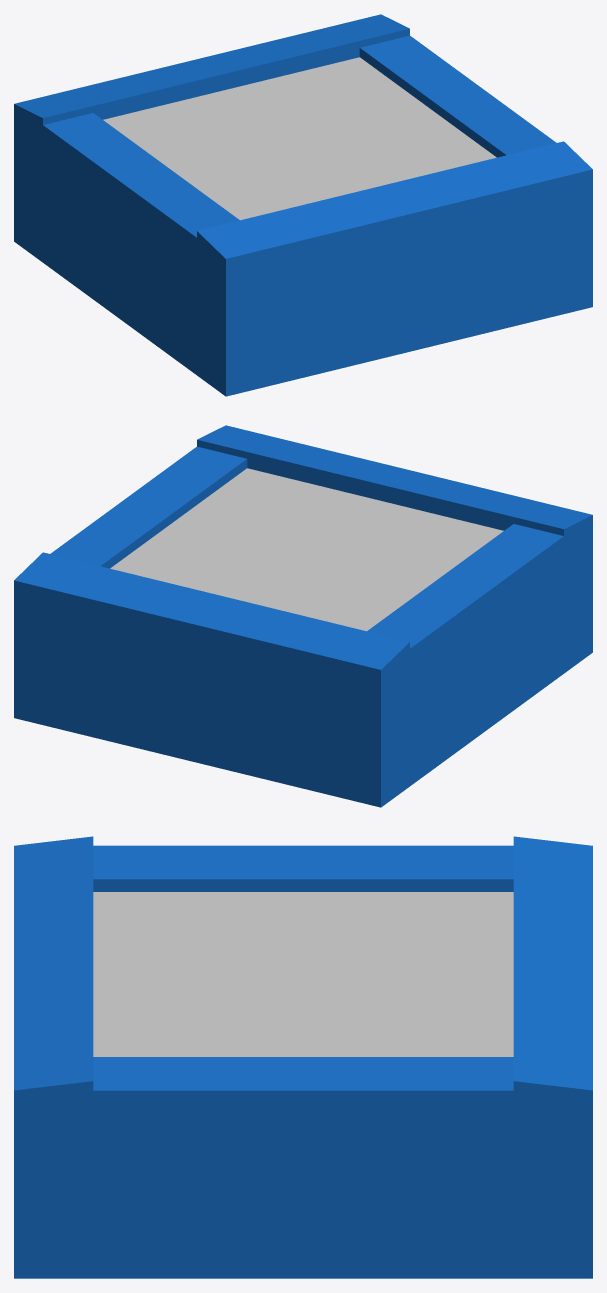
File: space_ceramic_tiles.fbx
3 renders of one model, top to bottom at view 1: azimuth 30°, elevation 25°; view 2: azimuth 150°, elevation 25°; view 3: azimuth 270°, elevation 25°, orthographic. The views are drawn at different scales.
Visible parts, largest first — view 1: Cube_106; view 2: Cube_106; view 3: Cube_106.
Part boxes in pixels (box(x1,y1,x2,y2)): Cube_106: box(14, 14, 592, 396); Cube_106: box(14, 425, 592, 807); Cube_106: box(14, 836, 592, 1278).
Bounding box in the file's own units: 44.1 × 16.59 × 44.1.
